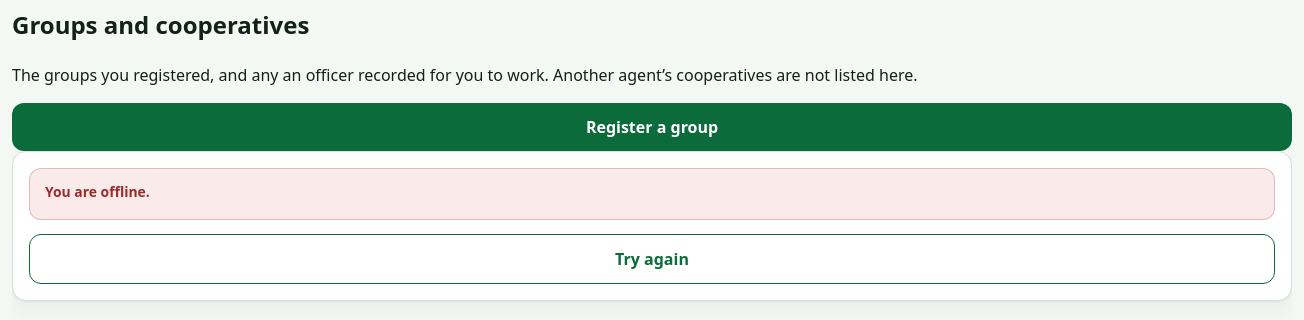
it: an agent whose group list could not be read › sees the cooperative they already registered when the read works
Click the button "Try again" at (652, 259), box [29,234,1275,284]
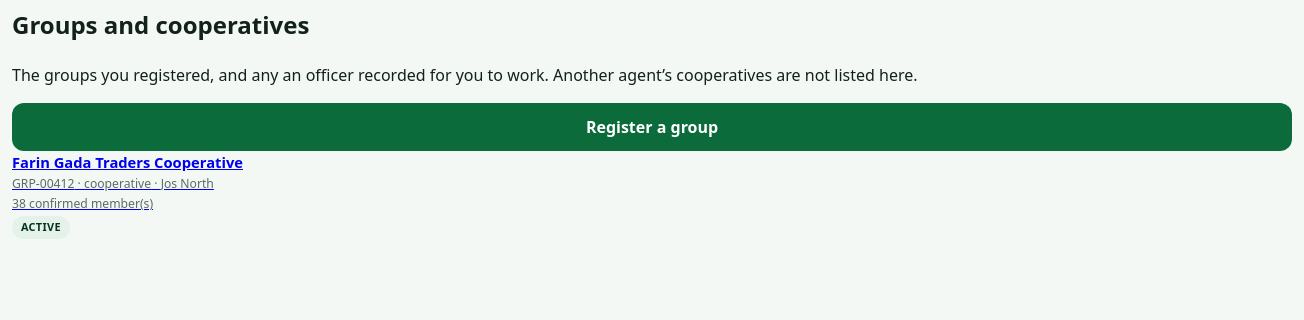
Check: the text "Farin Gada Traders Cooperative" is shown, box [12,152,243,172]
Check: the text "You are offline." is gone
